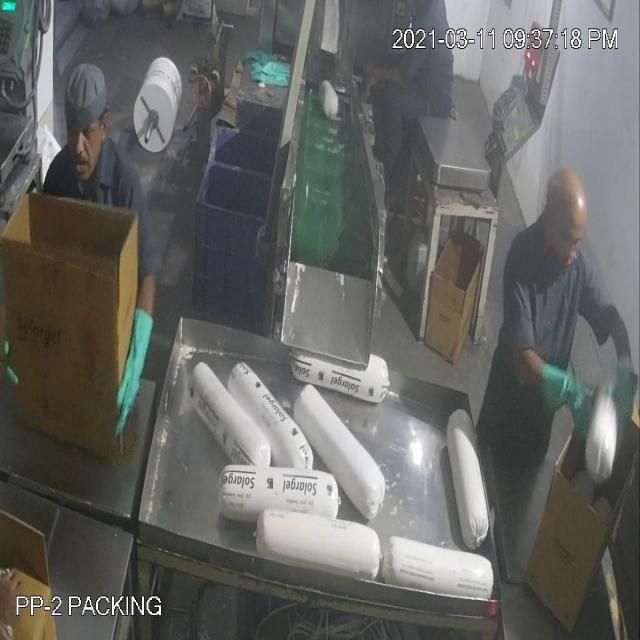Gloves: (53, 63, 576, 398)
